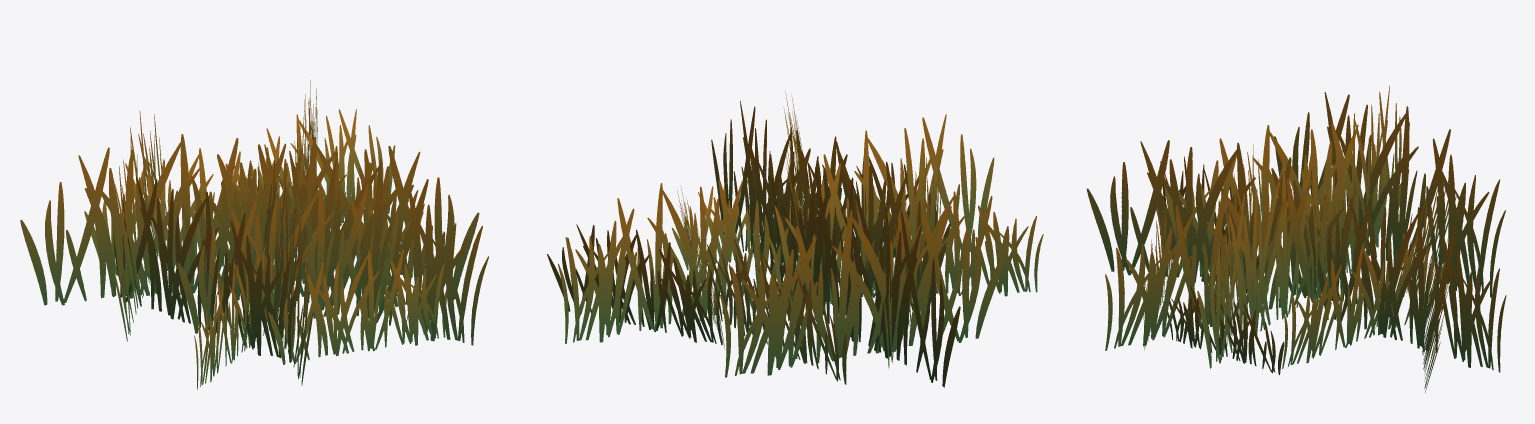
The model's file is mid_grass_02.gltf.
The picture shows the model from 3 angles, left to right: view 1: azimuth 30°, elevation 25°; view 2: azimuth 150°, elevation 25°; view 3: azimuth 270°, elevation 25°; orthographic projection. The views are drawn at different scales.
Parts seen in each view (by area): view 1: default; view 2: default; view 3: default.
Part boxes in pixels (x1,y1,x2,y2): default: (20,80,488,389); default: (547,91,1043,387); default: (1086,85,1506,392).
Bounding box in the file's own units: 1.16 × 0.5771 × 1.13.
Materials: 1 (1 with a texture image).
